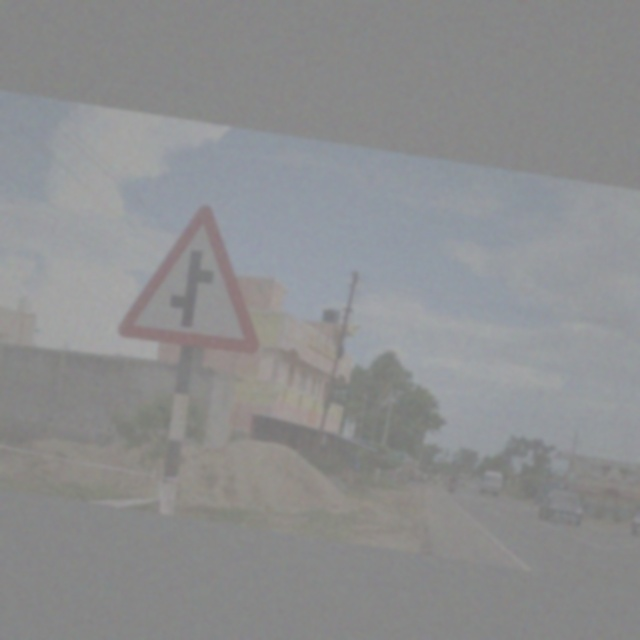Staggered_Intersection: (103, 189, 288, 362)
